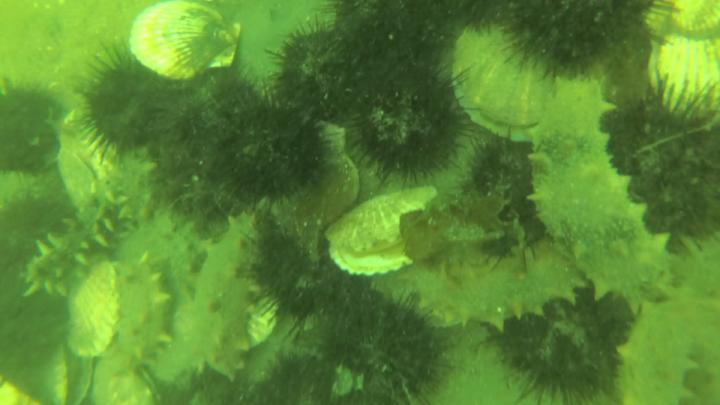echinus: (610, 81, 720, 244), (487, 295, 637, 405), (353, 54, 468, 184), (314, 287, 450, 395), (216, 94, 335, 207), (510, 1, 661, 79), (271, 20, 380, 126), (77, 56, 184, 163), (249, 230, 350, 329), (459, 130, 534, 253), (1, 81, 70, 175), (328, 1, 422, 65)
holothurian: (528, 79, 682, 316), (159, 210, 265, 391), (382, 241, 586, 327), (20, 179, 134, 303), (92, 256, 172, 405)
scallop: (449, 16, 543, 141), (328, 184, 448, 278), (129, 1, 244, 80), (65, 258, 123, 362), (312, 125, 362, 232), (649, 38, 720, 111), (90, 360, 166, 405)
